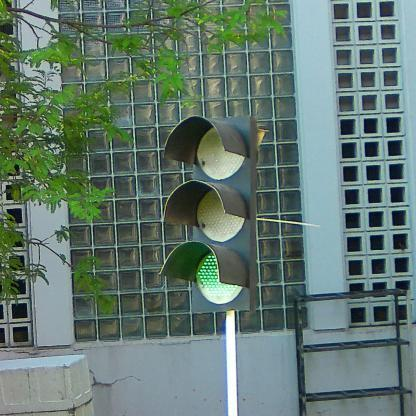green: (169, 120, 258, 310)
